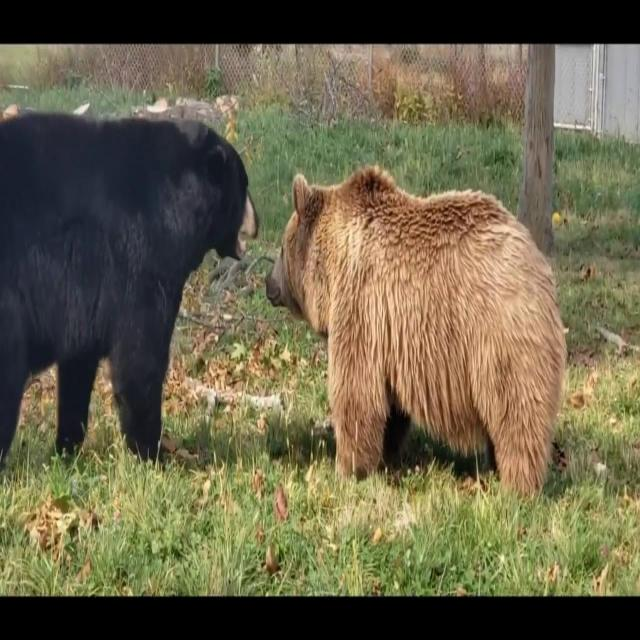Bear: (264, 167, 568, 501), (0, 111, 258, 476)
